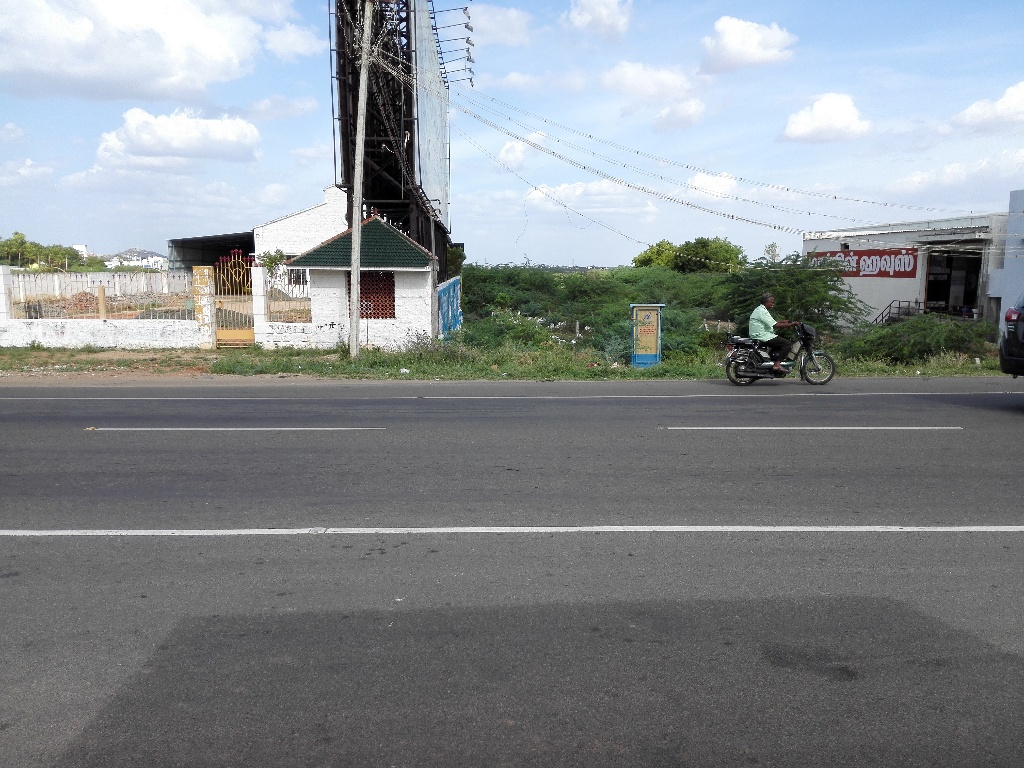biker: (711, 273, 852, 395)
nohelmet: (756, 286, 782, 317)
